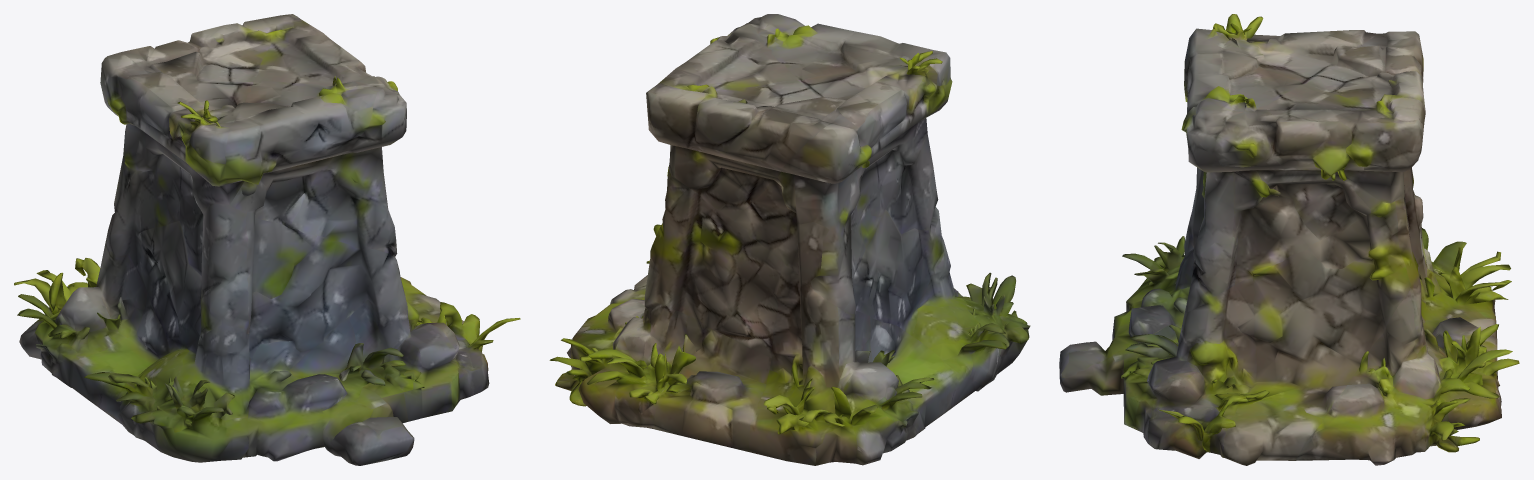
Rendered from ruin_pedestal.glb.
The picture shows the model from 3 angles, left to right: view 1: azimuth 30°, elevation 25°; view 2: azimuth 150°, elevation 25°; view 3: azimuth 270°, elevation 25°; orthographic projection.
Visible parts, largest first — view 1: tripo_node_5884d25f-2a75-41fe-b63d-2f3d2833d53b; view 2: tripo_node_5884d25f-2a75-41fe-b63d-2f3d2833d53b; view 3: tripo_node_5884d25f-2a75-41fe-b63d-2f3d2833d53b.
Boxes of the visible parts, box(x1,y1,x2,y2) form: tripo_node_5884d25f-2a75-41fe-b63d-2f3d2833d53b: box(14, 14, 520, 465); tripo_node_5884d25f-2a75-41fe-b63d-2f3d2833d53b: box(549, 14, 1030, 465); tripo_node_5884d25f-2a75-41fe-b63d-2f3d2833d53b: box(1059, 14, 1519, 465).
Bounding box in the file's own units: 0.9807 × 0.7638 × 0.998.
Materials: 1 (1 with a texture image).
